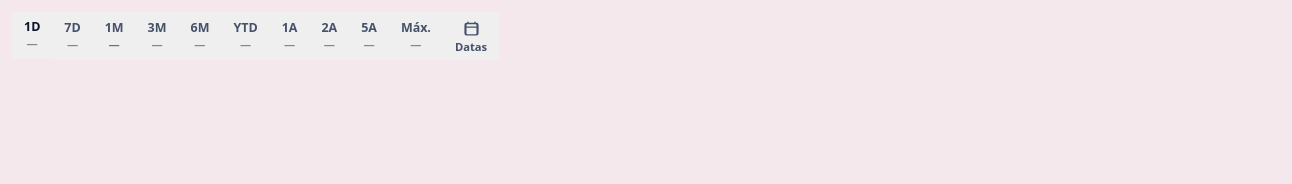
Test: ChartPeriodSelector › applies a valid custom period and closes the date panel
The image size is (1292, 184).
Step 1. Click the button with aria-label "Datas — selecionar período personalizado" → {"x": 471, "y": 36}, box [443,12,499,60]
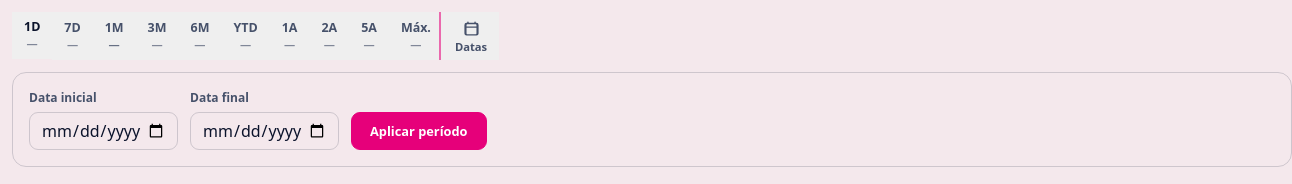
Step 2. Type "2026-08-01" into the date field labelled "Data inicial" → {"x": 104, "y": 131}, box [29,112,178,150]
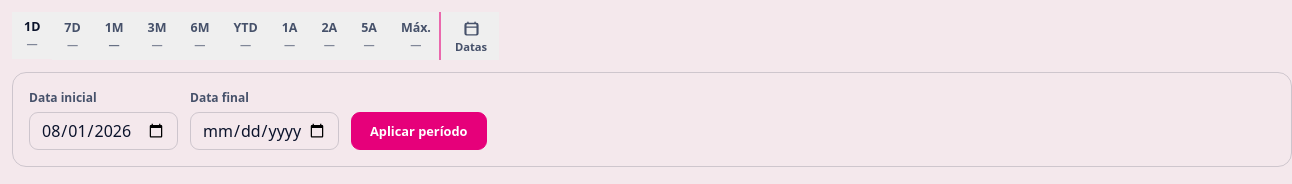
Step 3. Type "2026-08-10" into the date field labelled "Data final" → {"x": 264, "y": 131}, box [190,112,339,150]
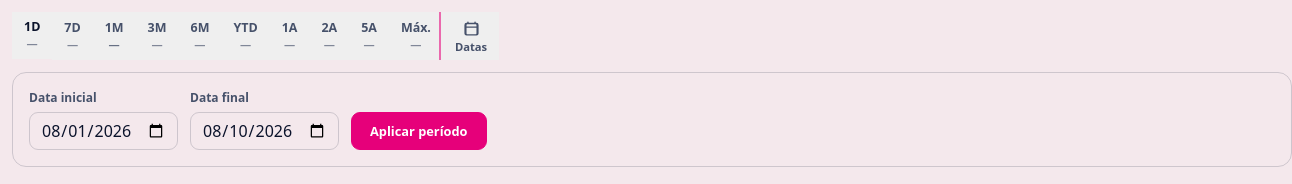
Step 4. Click the button "Aplicar período" → {"x": 419, "y": 131}, box [351,112,486,150]
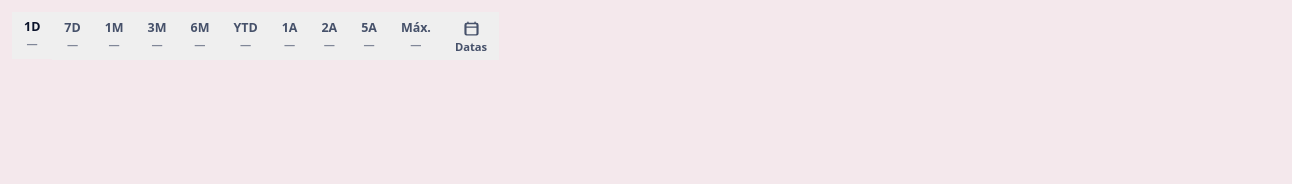
Now the label labelled "Data inicial" is gone
